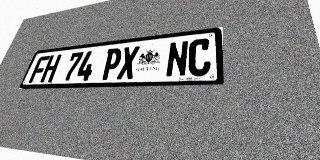4: (75, 50, 98, 81)
7: (61, 52, 84, 82)
C: (187, 38, 211, 77)
F: (28, 56, 50, 83)
H: (40, 54, 62, 83)
N: (165, 40, 189, 78)
P: (100, 48, 123, 80)
X: (116, 46, 140, 79)
